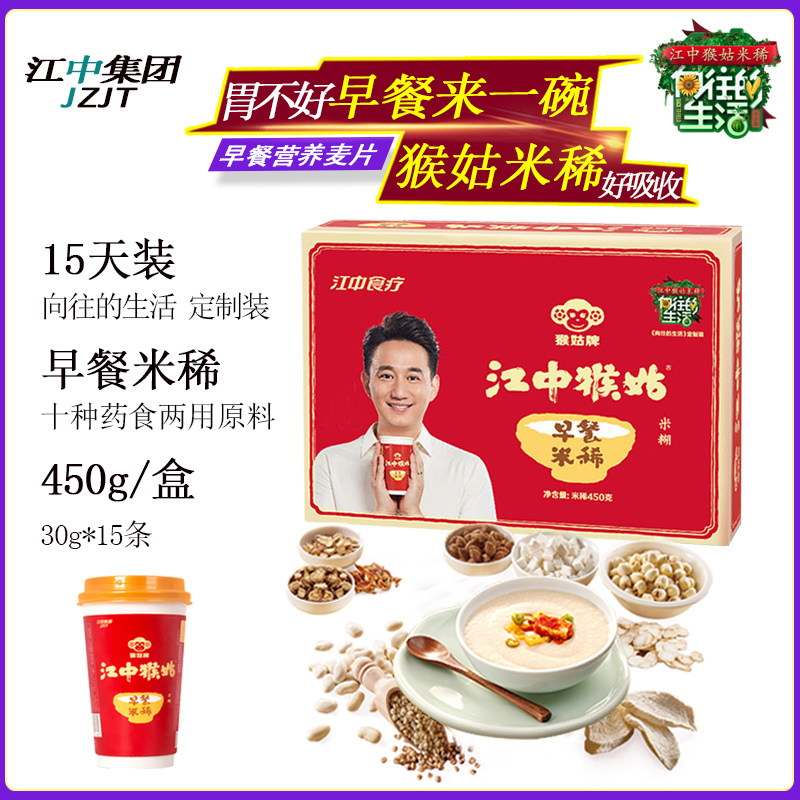box: (300, 217, 743, 548)
cup: (82, 574, 187, 767)
